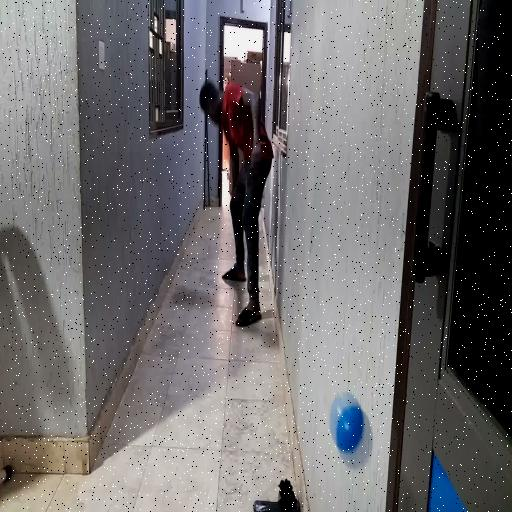plastic-ball: (329, 389, 371, 469)
